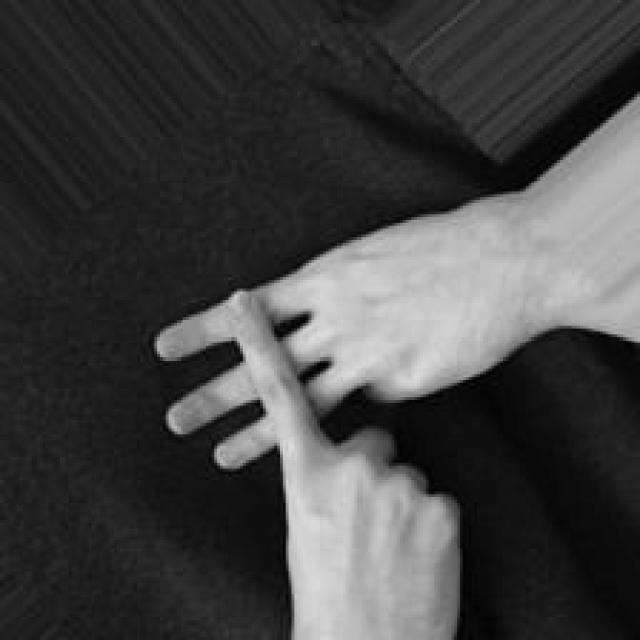E: (146, 217, 534, 640)
